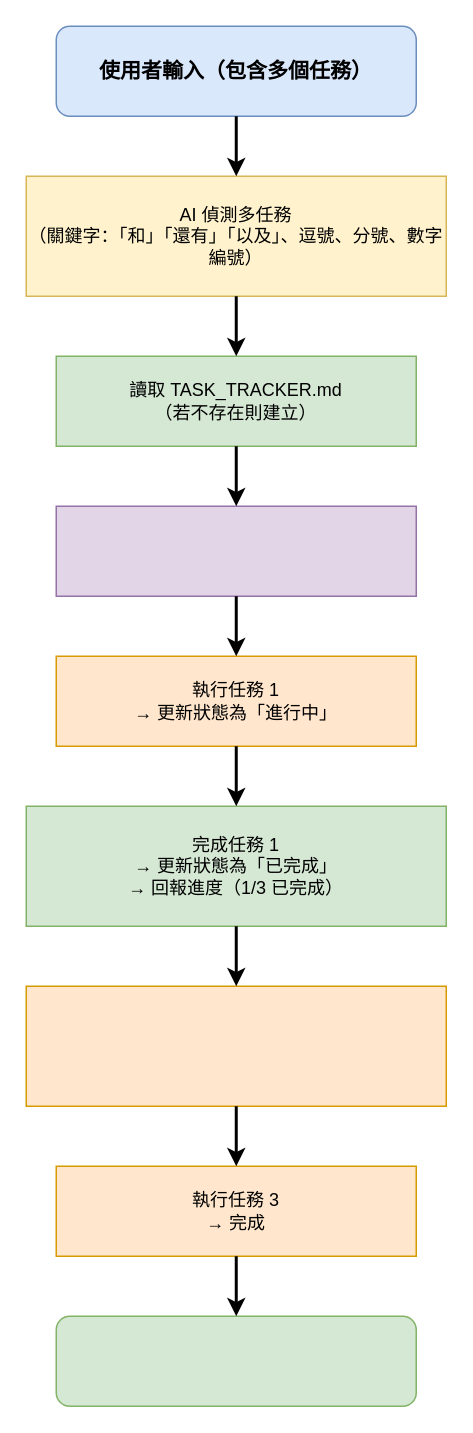
This 473x1433 diagram has some shape labels left out. Each missing label, with the centre of its shape:
"執行任務 2 → 更新狀態... → 完成 → 回報進度（2/3 已完成）" belongs at (x=235, y=1045).
"拆解為獨立任務 → 更新任務佇列" belongs at (x=235, y=550).
"最終摘要 「所有 3 項任務已完成 ✅」" belongs at (x=235, y=1360).
